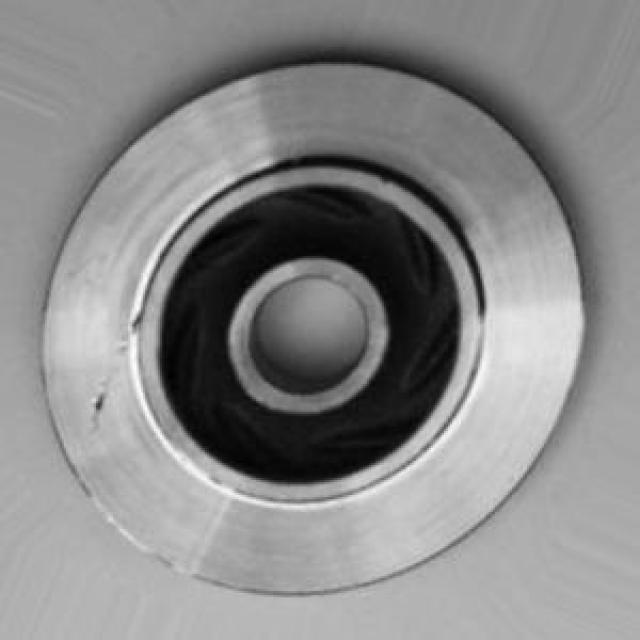Defect: (82, 390, 116, 418)
